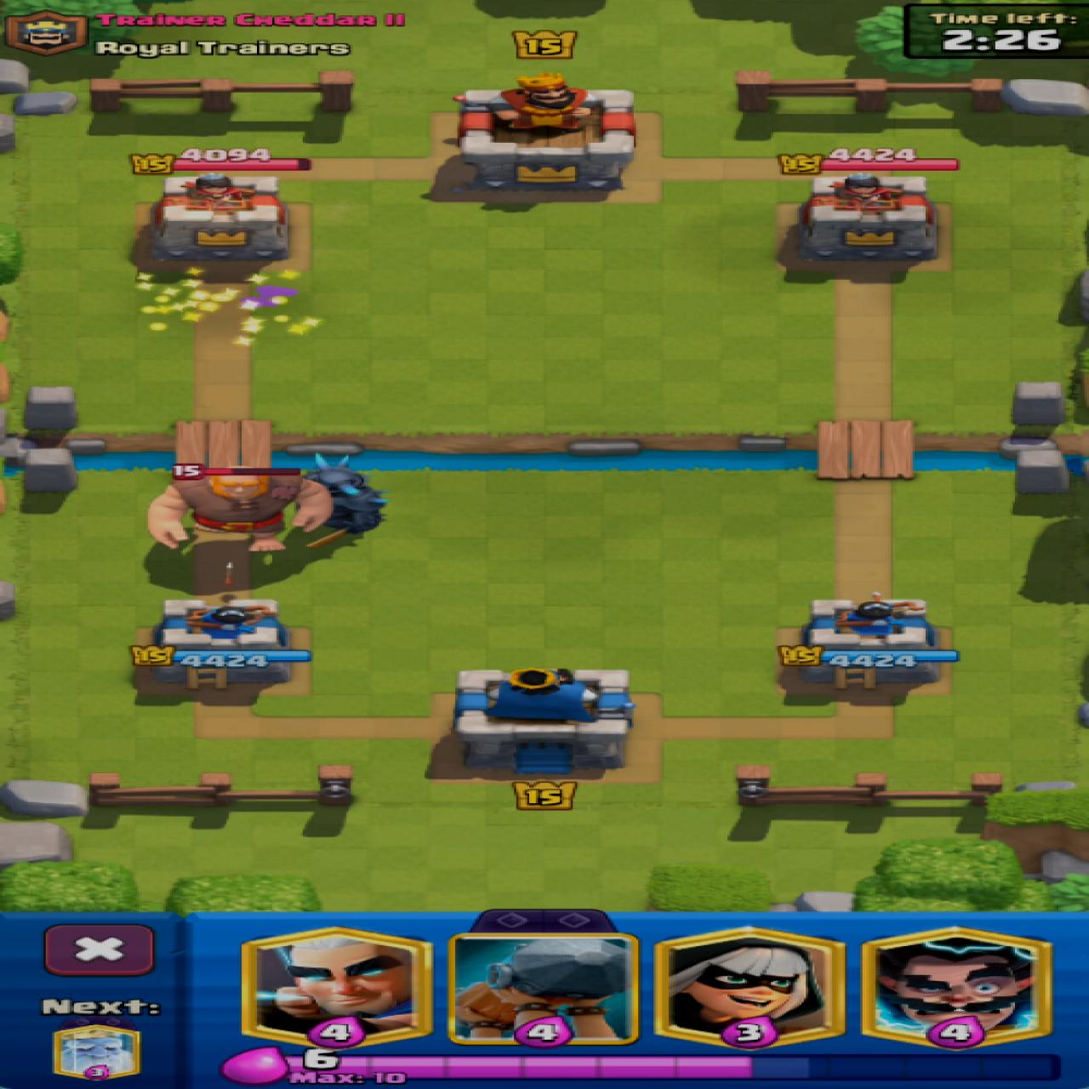Enemy-Giant: (148, 474, 331, 550)
Enemy-KingTower: (457, 75, 634, 193)
Enemy-PrincessTower: (150, 172, 287, 262), (799, 172, 934, 261)
